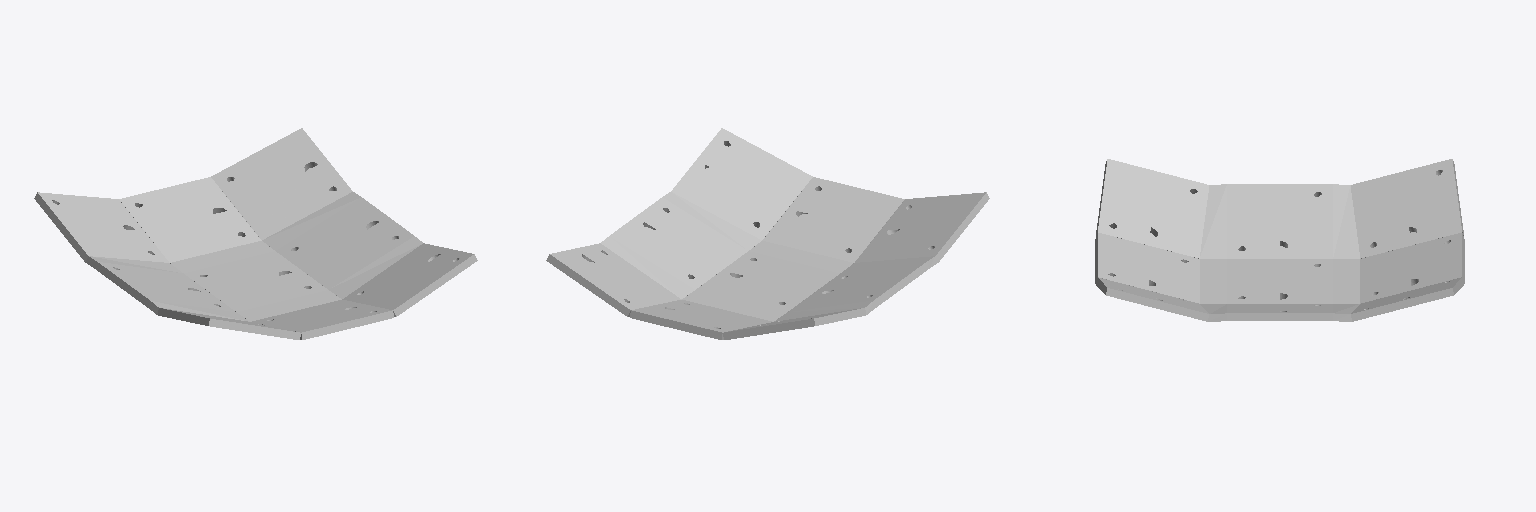
File: piece2.obj
3 views of the same model, side by side, from view 1: azimuth 30°, elevation 25°; view 2: azimuth 150°, elevation 25°; view 3: azimuth 270°, elevation 25° (orthographic).
Parts seen in each view (by area): view 1: piece2_Cube.003; view 2: piece2_Cube.003; view 3: piece2_Cube.003.
Part boxes in pixels (bbox=[...]): piece2_Cube.003: bbox=[34, 128, 477, 339]; piece2_Cube.003: bbox=[546, 128, 989, 339]; piece2_Cube.003: bbox=[1095, 159, 1464, 321].
Bounding box in the file's own units: 23.46 × 5.47 × 27.86.